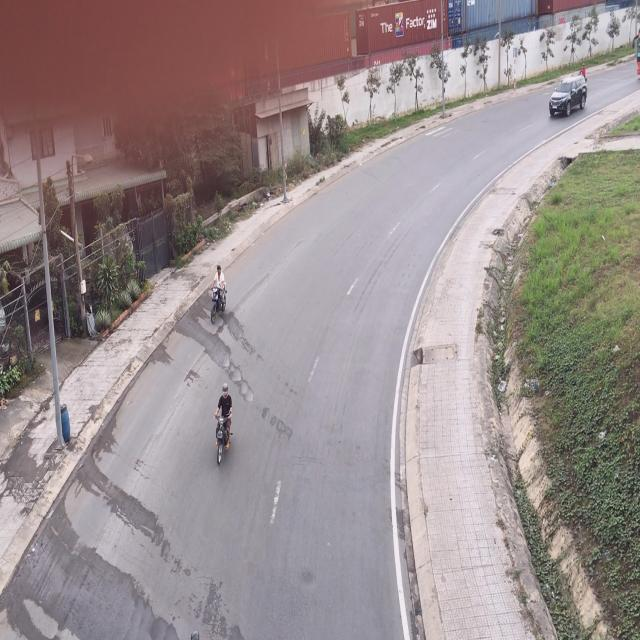car: (548, 74, 586, 121)
motorbike: (214, 386, 233, 468), (208, 265, 230, 328)
